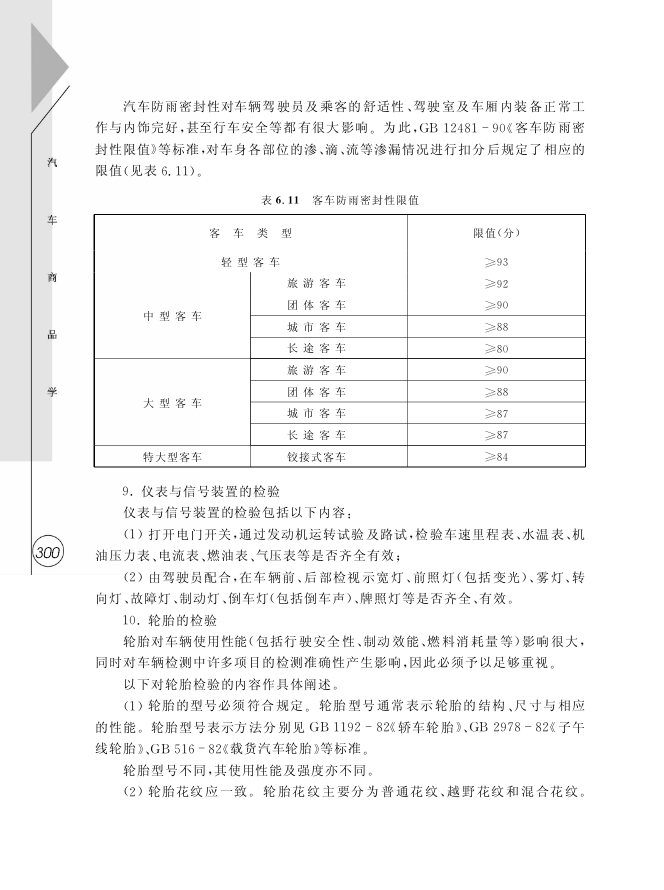table: (93, 213, 585, 467)
